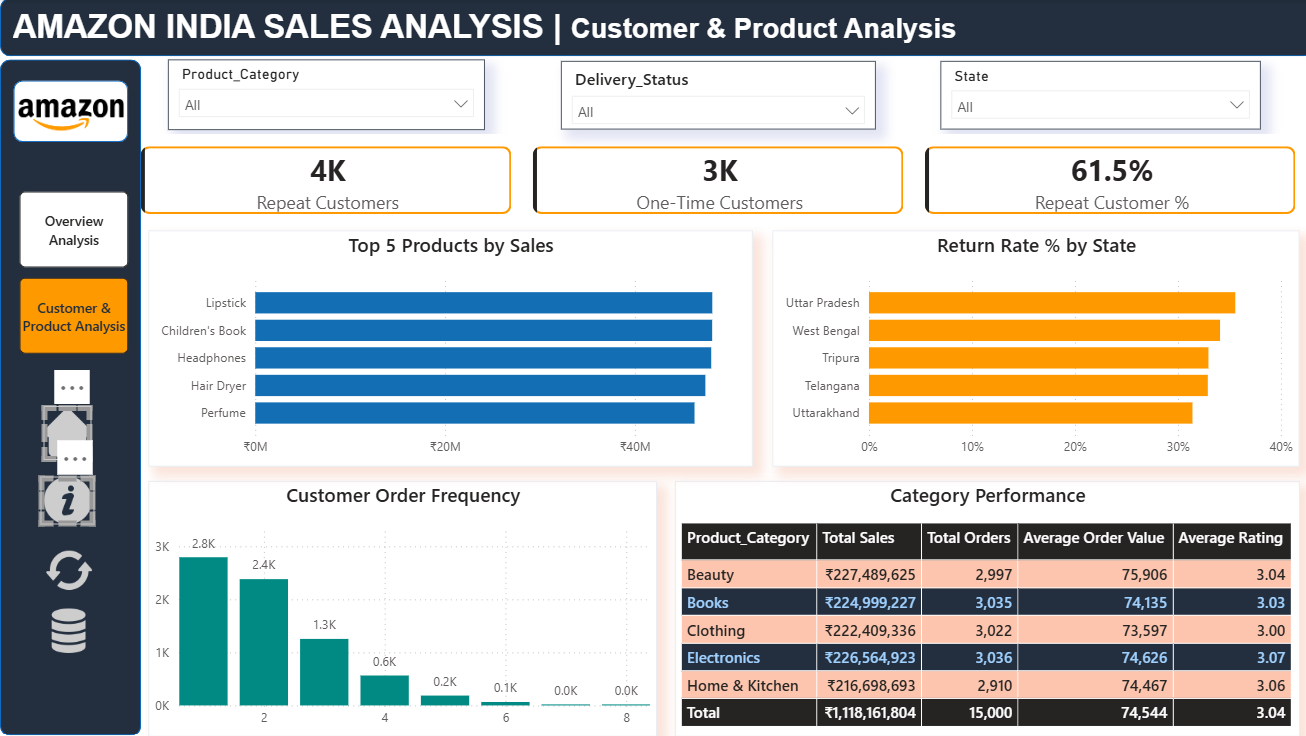

What the dashboard file says about the page in this screenshot:
{"tool":"powerbi","page":{"name":"Customer & Product Analysis","canvas":[1280,720],"ordinal":1},"visuals":[{"type":"shape","box":[13.3,80,111.7,60],"z":0,"group":"g1"},{"type":"clusteredBarChart","title":"Top 5 Products by Sales","fields":{"Category":["Amazon_Sales.Product_Name"],"Y":["Amazon_Sales.Total Sales"]},"box":[145,226.7,588.3,230],"z":0},{"type":"image","box":[18.3,68.3,103.3,90],"z":1000,"group":"g1"},{"type":"tableEx","title":"Category Performance","fields":{"Values":["Amazon_Sales.Product_Category","Amazon_Sales.Total Sales","Amazon_Sales.Total Orders","Amazon_Sales.Average Order Value","Amazon_Sales.Average Rating"]},"box":[658.3,470,608.3,250],"z":1000},{"type":"slicer","fields":{"Values":["Amazon_Sales.Product_Category"]},"box":[163.3,60,308.3,68.3],"z":2000},{"type":"slicer","fields":{"Values":["Amazon_Sales.State"]},"box":[916.7,61.7,311.7,66.7],"z":3000},{"type":"barChart","fields":{"Category":["Amazon_Sales.State"],"Y":["Amazon_Sales.Return Rate %"]},"box":[753.3,226.7,513.3,230],"z":4000},{"type":"shape","box":[0,0,1280,56.9],"z":5000},{"type":"textbox","box":[7.6,4.5,1235.6,53],"z":6000},{"type":"cardVisual","fields":{"Data":["Amazon_Sales.Repeat Customers","Amazon_Sales.One-Time Customers","Amazon_Sales.Repeat Customer %"]},"box":[120,126.7,1160,100],"z":7000},{"type":"slicer","fields":{"Values":["Amazon_Sales.Delivery_Status"]},"box":[546.7,61.7,306.7,66.7],"z":8000},{"type":"clusteredColumnChart","title":"Customer Order Frequency","fields":{"Category":["Order_Frequency_Summary.Customer_Order_Frequency_Order Count"],"Y":["Sum(Order_Frequency_Summary.Customer Count)"]},"box":[145,470,495,250],"z":9000},{"type":"shape","box":[0,60.6,137.5,659.4],"z":10000},{"type":"group","id":"g1","title":"Group 1","box":[13.3,68.3,111.7,90],"z":11000},{"type":"pageNavigator","box":[18.3,188.3,106.7,158.3],"z":12000},{"type":"image","box":[42.8,397.8,46.7,51.7],"z":13000},{"type":"image","box":[39.4,466.1,53.3,46.7],"z":14000},{"type":"image","box":[42.8,534.4,50,45],"z":15000},{"type":"image","box":[36.7,595,60,43.3],"z":16000}]}

Visuals, with their boxes in screenshot pixels (x1, y1, x2, y2), scaled from the page's 1280x720 canvas onto the 1306x736 screenshot:
shape: left=14, top=82, right=128, bottom=143
"Top 5 Products by Sales" clusteredBarChart: left=148, top=232, right=748, bottom=467
image: left=19, top=70, right=124, bottom=162
"Category Performance" tableEx: left=672, top=480, right=1292, bottom=735
slicer - Amazon_Sales.Product_Category: left=167, top=61, right=481, bottom=131
slicer - Amazon_Sales.State: left=935, top=63, right=1253, bottom=131
barChart - Amazon_Sales.State x Amazon_Sales.Return Rate %: left=769, top=232, right=1292, bottom=467
shape: left=0, top=0, right=1305, bottom=58
textbox: left=8, top=5, right=1268, bottom=59
cardVisual - Amazon_Sales.Repeat Customers x Amazon_Sales.One-Time Customers: left=122, top=130, right=1305, bottom=232
slicer - Amazon_Sales.Delivery_Status: left=558, top=63, right=871, bottom=131
"Customer Order Frequency" clusteredColumnChart: left=148, top=480, right=653, bottom=735
shape: left=0, top=62, right=140, bottom=735
"Group 1" group: left=14, top=70, right=128, bottom=162
pageNavigator: left=19, top=192, right=128, bottom=354
image: left=44, top=407, right=91, bottom=459
image: left=40, top=476, right=95, bottom=524
image: left=44, top=546, right=95, bottom=592
image: left=37, top=608, right=99, bottom=652
